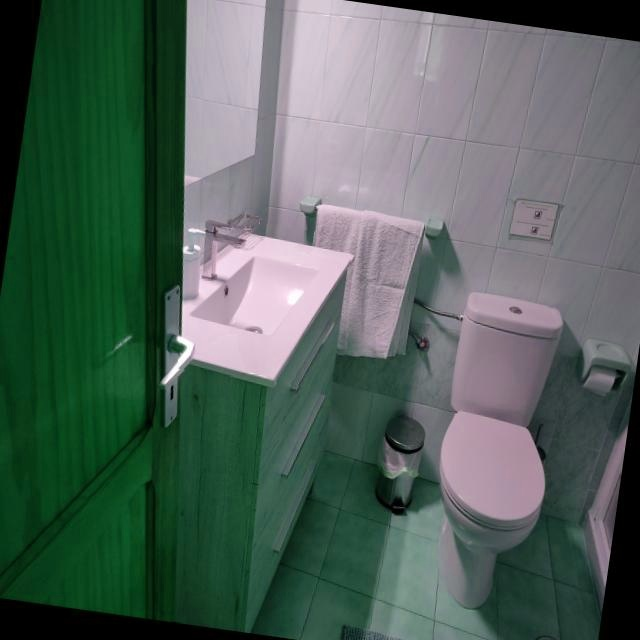cabinet: (173, 273, 347, 633)
shelf: (585, 412, 629, 614)
table: (438, 292, 563, 610)
wardrobe: (183, 221, 351, 382)
